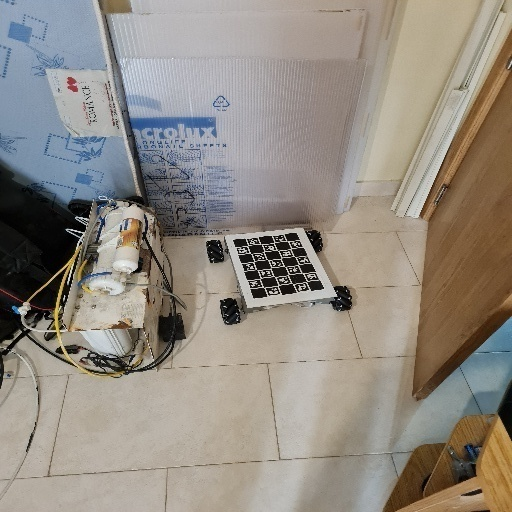Omniwheel: (206, 227, 354, 326)
